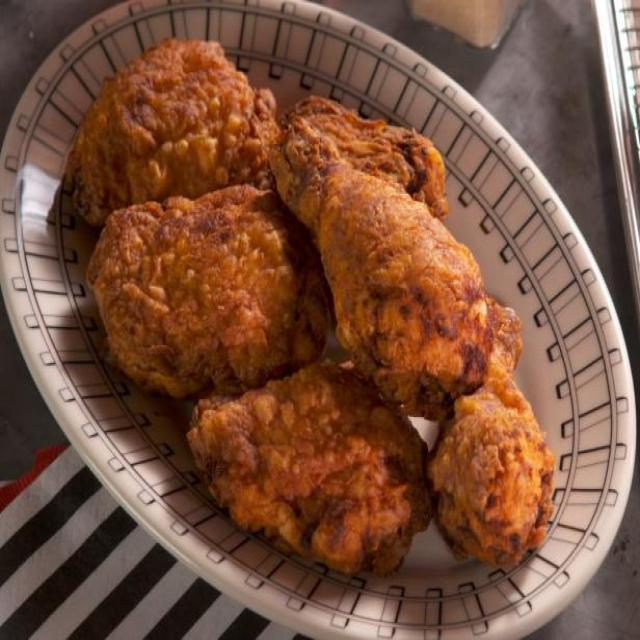Frango: (50, 31, 558, 570)
